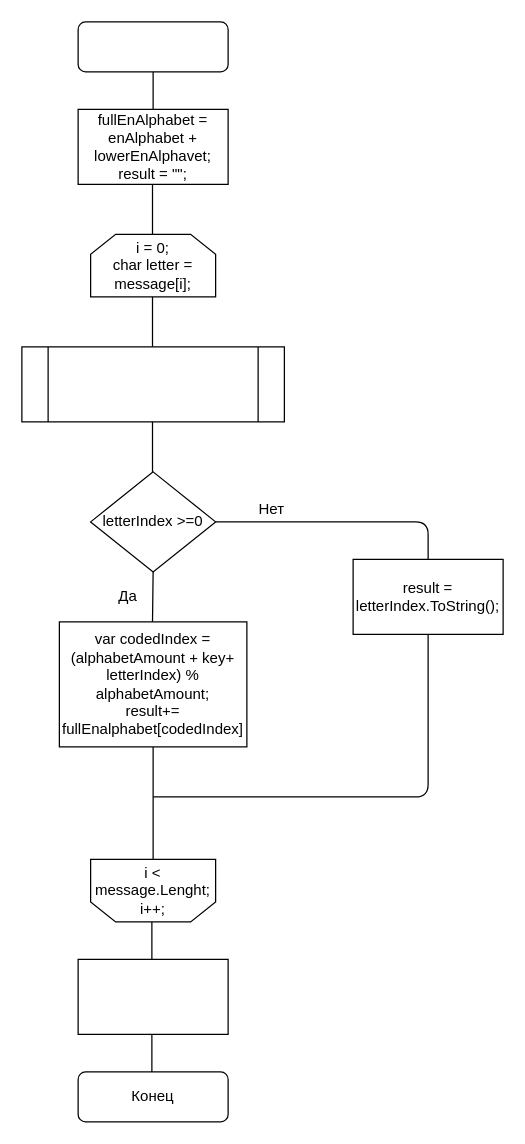
Image size: 525x1144. Some labels were removed from this diagram. The box of each missing label's shape, as (x1, y1, x2, y2) in pixels:
int letterIndex = fullEnAlphabet.IndexOf(letter);: (21, 346, 284, 422)
return result;: (77, 958, 228, 1034)
Начало: (77, 21, 228, 72)
